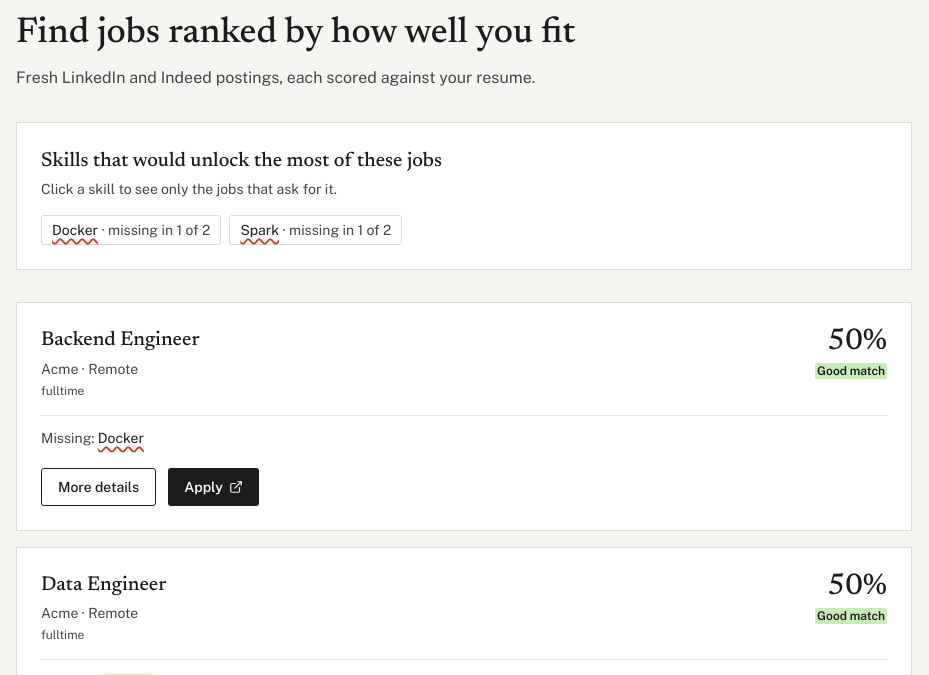
it: clicking a gap filters the cards to jobs missing that skill
What coordinates should you click on to do the following:
click the button "Docker · missing in 1 of 2"
I would click on:
 (131, 230)
Its box is x1=41 y1=215 x2=221 y2=245.
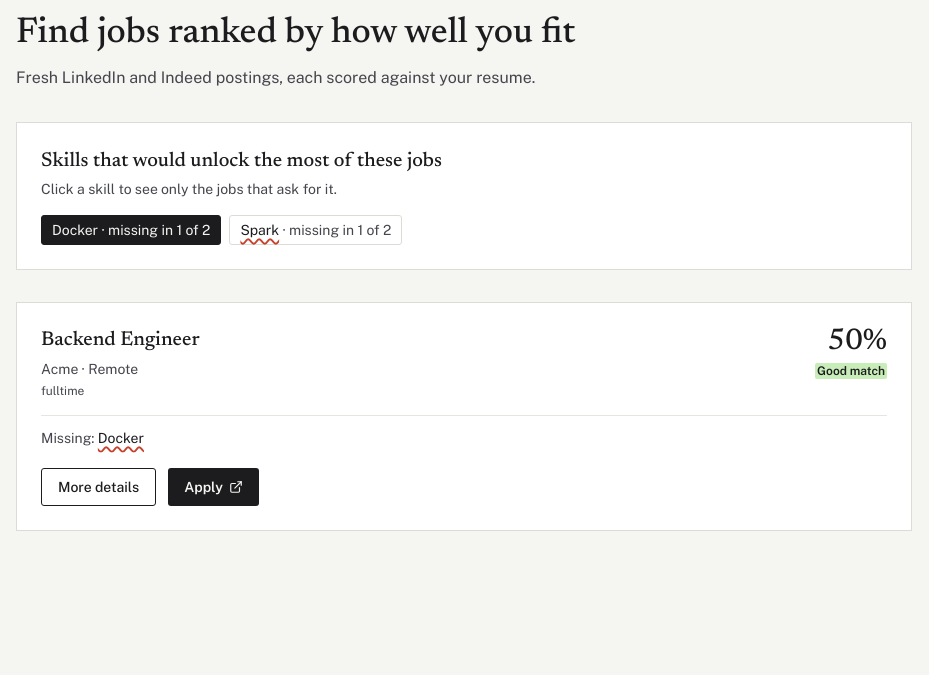
Expected: the heading "Backend Engineer" is shown, x1=41 y1=327 x2=200 y2=354
Expected: the heading "Data Engineer" is gone
